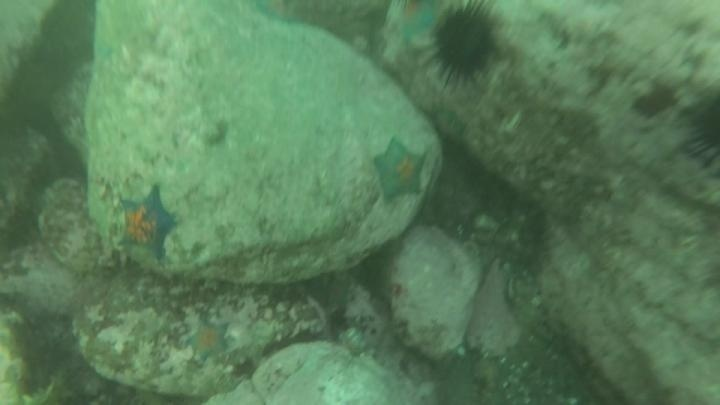echinus: (426, 2, 505, 89), (679, 88, 720, 172)
holothurian: (14, 369, 78, 404)
starfish: (113, 183, 181, 267), (368, 135, 431, 204), (181, 313, 234, 366), (391, 0, 445, 50), (251, 0, 307, 28)
